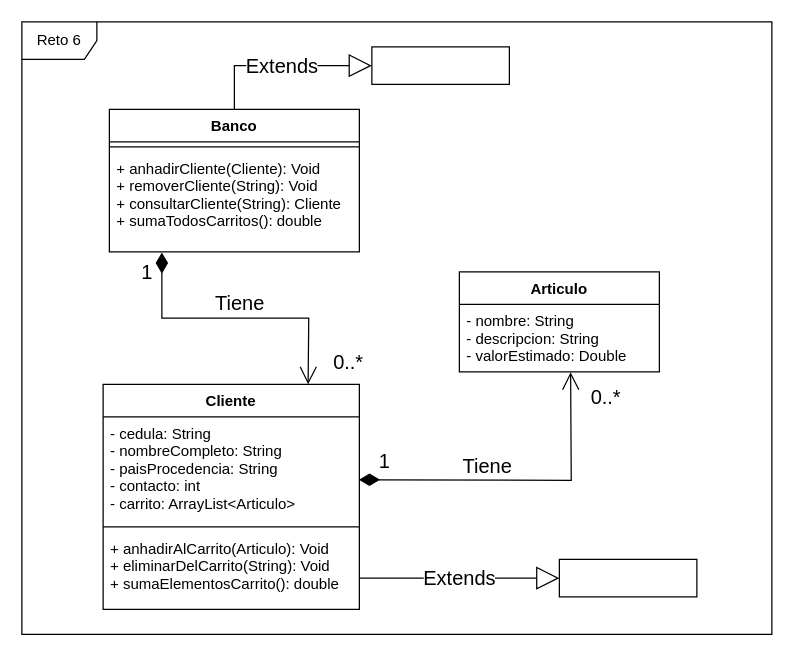
This 794x656 diagram has some shape labels left out. Each missing label, with the centre of its shape:
ArrayList: point (627, 577)
Hashtable: point (440, 65)
